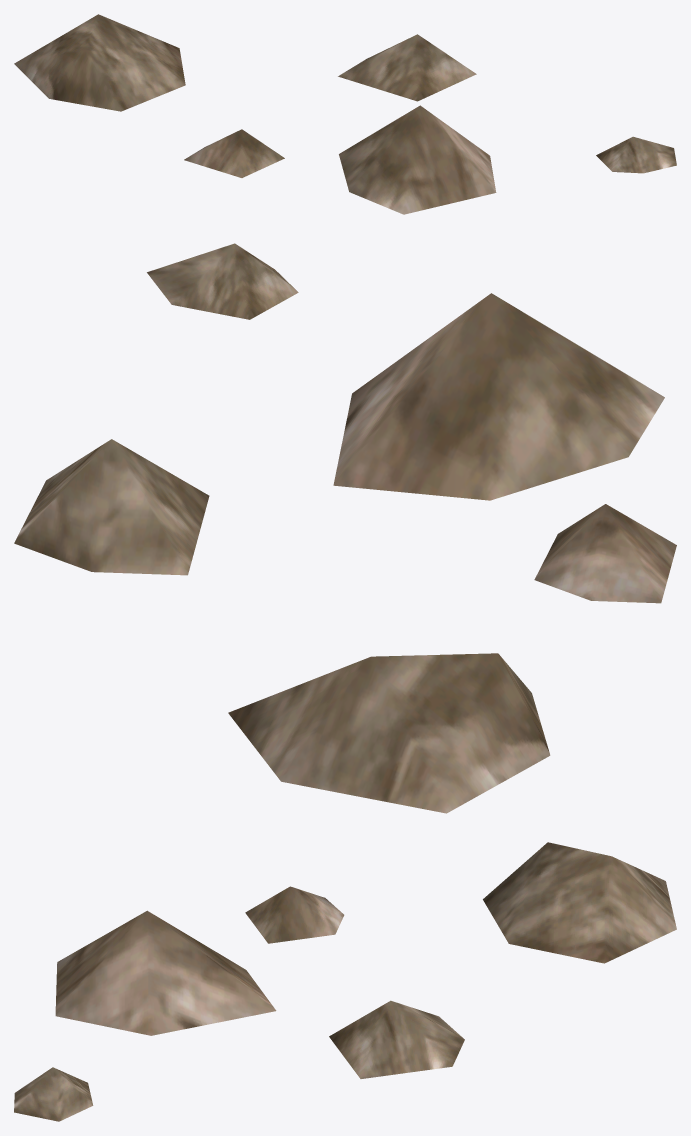
The model's file is INST_OH_FINE_ROCKS_02.fbx.
3 renders of one model, top to bottom at view 1: azimuth 30°, elevation 25°; view 2: azimuth 150°, elevation 25°; view 3: azimuth 270°, elevation 25°, orthographic. The views are drawn at different scales.
Parts seen in each view (by area): view 1: INST_OH_FINE_ROCKS_02; view 2: INST_OH_FINE_ROCKS_02; view 3: INST_OH_FINE_ROCKS_02.
Part boxes in pixels (x1,y1,x2,y2): INST_OH_FINE_ROCKS_02: (14, 14, 676, 214); INST_OH_FINE_ROCKS_02: (14, 243, 676, 813); INST_OH_FINE_ROCKS_02: (14, 842, 676, 1121).
Bounding box in the file's own units: 2953 × 465 × 3358.
1 material, 1 textured.
